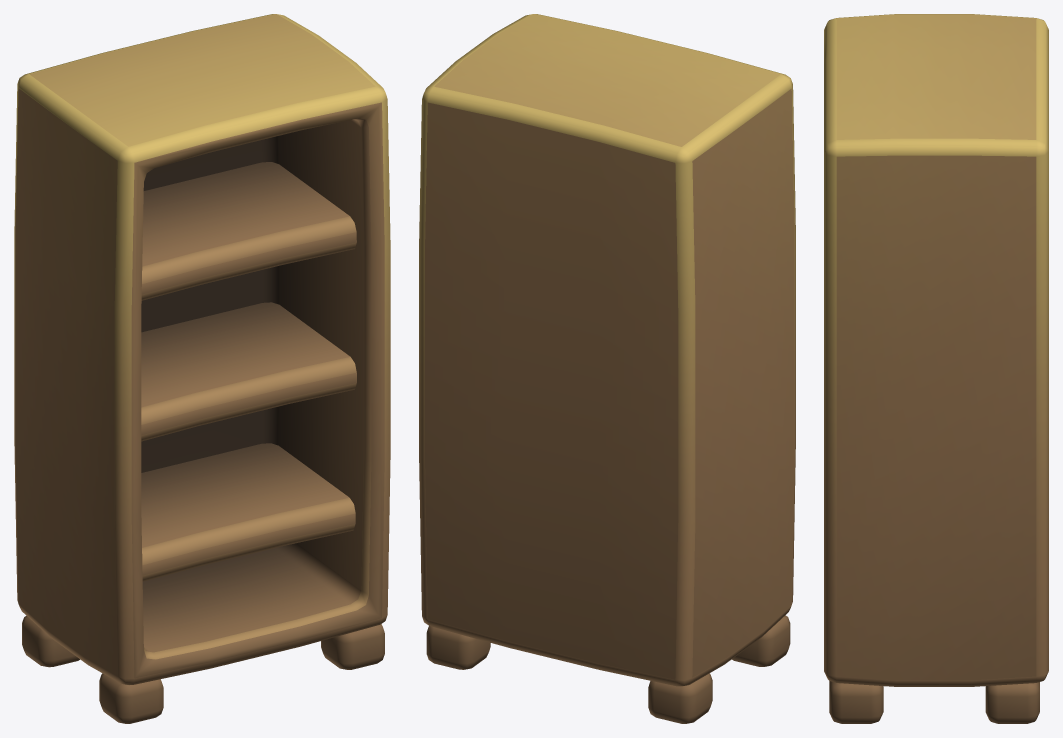
Rendered from cupboard_LOD_setup.fbx.
The picture shows the model from 3 angles, left to right: view 1: azimuth 30°, elevation 25°; view 2: azimuth 150°, elevation 25°; view 3: azimuth 270°, elevation 25°; orthographic projection.
Visible parts, largest first — view 1: cupboard_LOD0; view 2: cupboard_LOD0; view 3: cupboard_LOD0.
Part boxes in pixels (<box>): cupboard_LOD0: <box>14,14,390,723</box>; cupboard_LOD0: <box>419,14,795,723</box>; cupboard_LOD0: <box>824,14,1048,723</box>.
Size of what is drawn, in the model's own units: 104 by 208 by 71.88.
